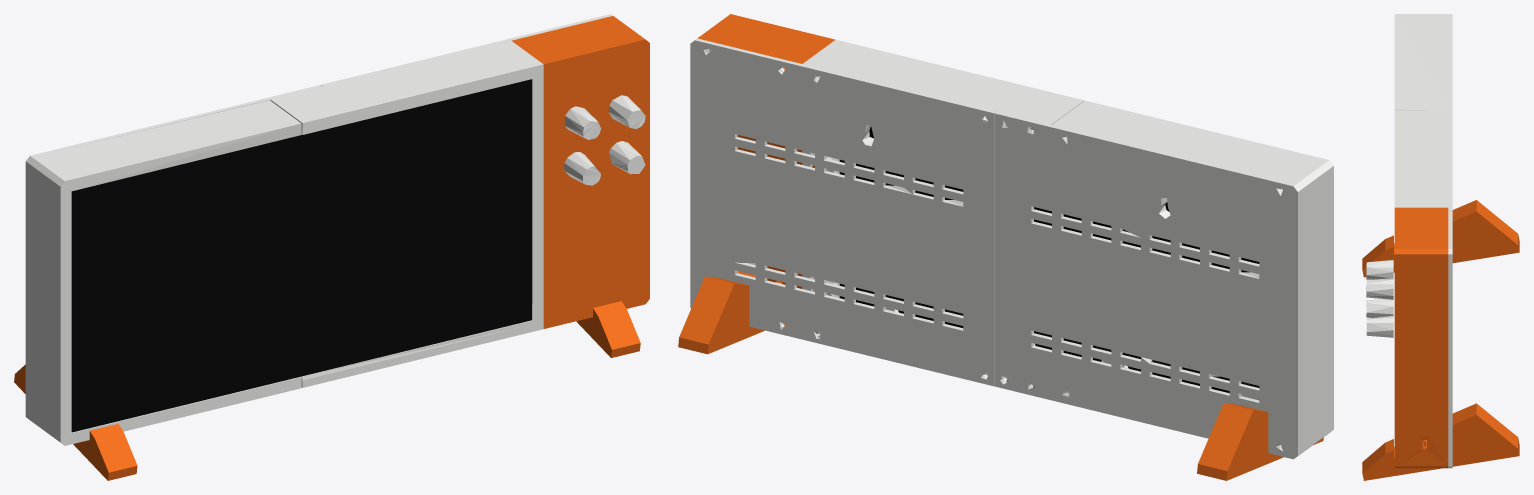
The model's file is light.glb.
3 renders of one model, left to right at view 1: azimuth 30°, elevation 25°; view 2: azimuth 150°, elevation 25°; view 3: azimuth 270°, elevation 25°, orthographic. The views are drawn at different scales.
Parts seen in each view (by area): view 1: l, body; view 2: body; view 3: body.
Part boxes in pixels (x1=…): l: x1=72, y1=79, x2=531, y2=432; body: x1=14, y1=14, x2=649, y2=480; body: x1=678, y1=14, x2=1333, y2=480; body: x1=1362, y1=14, x2=1519, y2=480.
Bounding box in the file's own units: 41.03 × 19.43 × 11.43.
